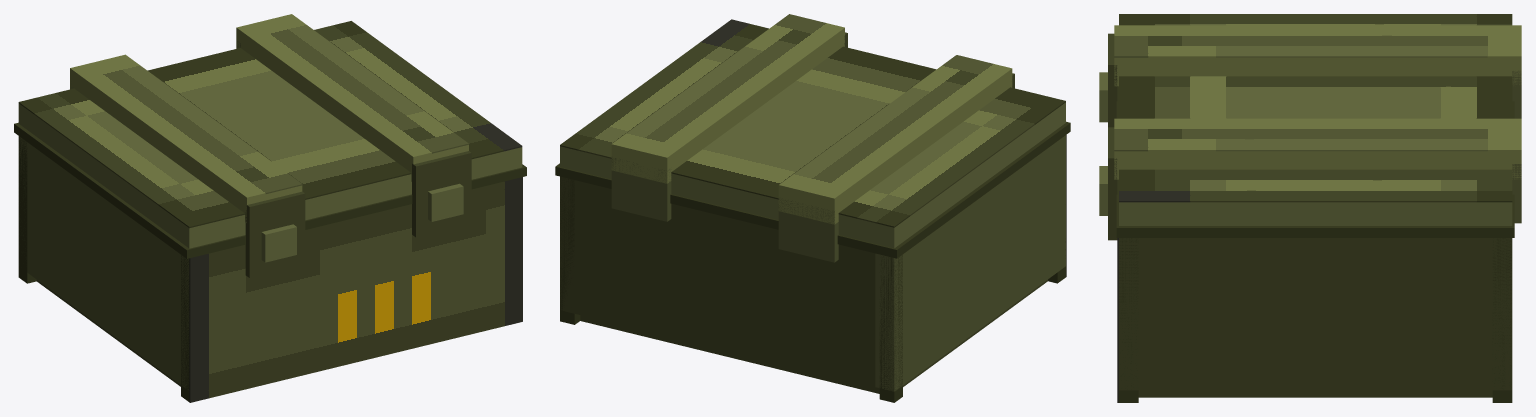
File: CMU3DSecureCaseAmmoMiniCloud.glb
3 renders of one model, left to right at view 1: azimuth 30°, elevation 25°; view 2: azimuth 150°, elevation 25°; view 3: azimuth 270°, elevation 25°, orthographic. The views are drawn at different scales.
Parts seen in each view (by area): view 1: original olive face and three gold ammunition marks, left full-depth metal shell, original lid field 2, original retaining strap top 1, original retaining strap top 2, original lid field 1, separate solid metal lid, original lid field 3, lid seam dark gasket, retaining strap front return 1, retaining strap front return 2, raised retaining strap 1 (+5 smaller); view 2: rear metal shell, left full-depth metal shell, original lid field 2, original retaining strap top 1, original retaining strap top 2, original lid field 1, separate solid metal lid, original lid field 3, lid seam dark gasket, raised retaining strap 1, raised retaining strap 2, folded metal corner 0-1 (+5 smaller); view 3: right full-depth metal shell, original lid field 2, original retaining strap top 2, original retaining strap top 1, original lid field 3, separate solid metal lid, raised retaining strap 1, raised retaining strap 2, lid seam dark gasket, original lid field 1, bottom metal pan, folded metal corner 1-1 (+7 smaller).
Part boxes in pixels (left/top/right/bottom): original olive face and three gold ammunition marks: left=189, top=177, right=522, bottom=402; left full-depth metal shell: left=18, top=136, right=189, bottom=389; original lid field 2: left=147, top=48, right=411, bottom=199; original retaining strap top 1: left=70, top=54, right=302, bottom=198; original retaining strap top 2: left=236, top=14, right=468, bottom=158; original lid field 1: left=18, top=88, right=244, bottom=228; separate solid metal lid: left=18, top=103, right=522, bottom=248; original lid field 3: left=314, top=21, right=522, bottom=159; lid seam dark gasket: left=14, top=122, right=526, bottom=258; retaining strap front return 1: left=245, top=191, right=305, bottom=277; retaining strap front return 2: left=412, top=151, right=471, bottom=237; raised retaining strap 1: left=70, top=69, right=302, bottom=222; rear metal shell: left=579, top=181, right=875, bottom=386; left full-depth metal shell: left=875, top=135, right=1065, bottom=391; original lid field 2: left=671, top=46, right=936, bottom=199; original retaining strap top 1: left=778, top=55, right=1012, bottom=199; original retaining strap top 2: left=611, top=14, right=844, bottom=158; original lid field 1: left=838, top=87, right=1065, bottom=227; separate solid metal lid: left=560, top=102, right=1065, bottom=248; original lid field 3: left=560, top=19, right=768, bottom=158; lid seam dark gasket: left=555, top=121, right=1070, bottom=258; raised retaining strap 1: left=778, top=70, right=1012, bottom=224; raised retaining strap 2: left=611, top=29, right=844, bottom=183; folded metal corner 0-1: left=879, top=255, right=902, bottom=402; right full-depth metal shell: left=1119, top=238, right=1512, bottom=390; original lid field 2: left=1119, top=76, right=1512, bottom=118; original retaining strap top 2: left=1114, top=118, right=1521, bottom=151; original retaining strap top 1: left=1114, top=25, right=1521, bottom=57; original lid field 3: left=1119, top=169, right=1512, bottom=202; separate solid metal lid: left=1119, top=202, right=1512, bottom=225; raised retaining strap 1: left=1114, top=57, right=1521, bottom=86; raised retaining strap 2: left=1114, top=151, right=1521, bottom=179; lid seam dark gasket: left=1116, top=86, right=1514, bottom=237; original lid field 1: left=1119, top=14, right=1512, bottom=25; bottom metal pan: left=1138, top=390, right=1492, bottom=397; folded metal corner 1-1: left=1492, top=238, right=1512, bottom=402.
Size of the model in its own units: 0.5745 by 0.3114 by 0.537.
Materials: 10 (5 with a texture image).
